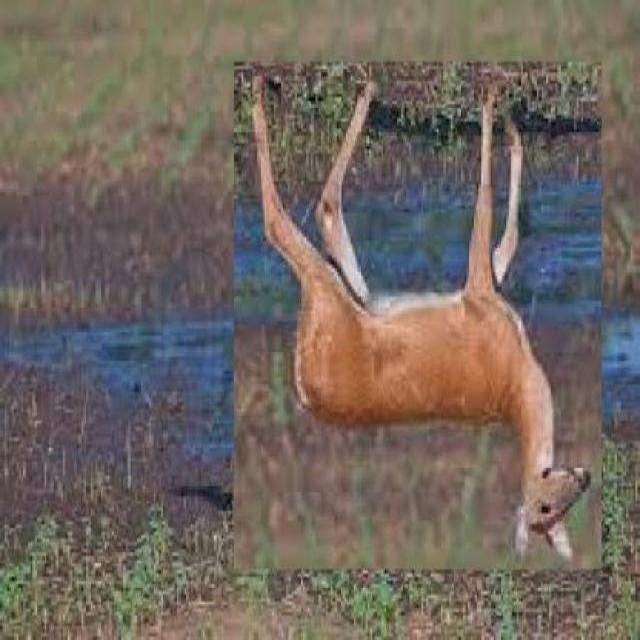deer: (234, 61, 603, 571)
